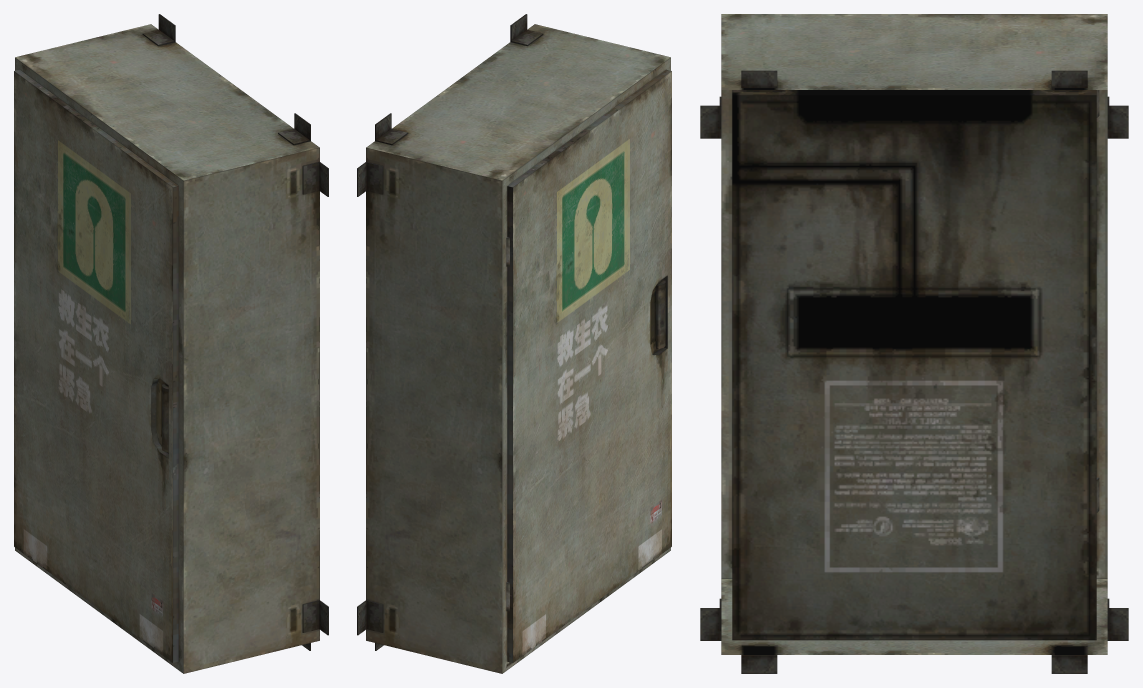
The model's file is cabinet_life_vest.dae.
The picture shows the model from 3 angles, left to right: view 1: azimuth 30°, elevation 25°; view 2: azimuth 150°, elevation 25°; view 3: azimuth 270°, elevation 25°; orthographic projection. The views are drawn at different scales.
Visible parts, largest first — view 1: Mesh, Mesh__2_; view 2: Mesh, Mesh__2_; view 3: Mesh.
Boxes of the visible parts, box(x1,y1,x2,y2) form: Mesh: box(15, 14, 328, 673); Mesh__2_: box(14, 69, 178, 662); Mesh: box(357, 14, 670, 673); Mesh__2_: box(507, 69, 671, 662); Mesh: box(700, 14, 1128, 673).
Size of the model in its own units: 0.3521 by 1.24 by 0.7957.
